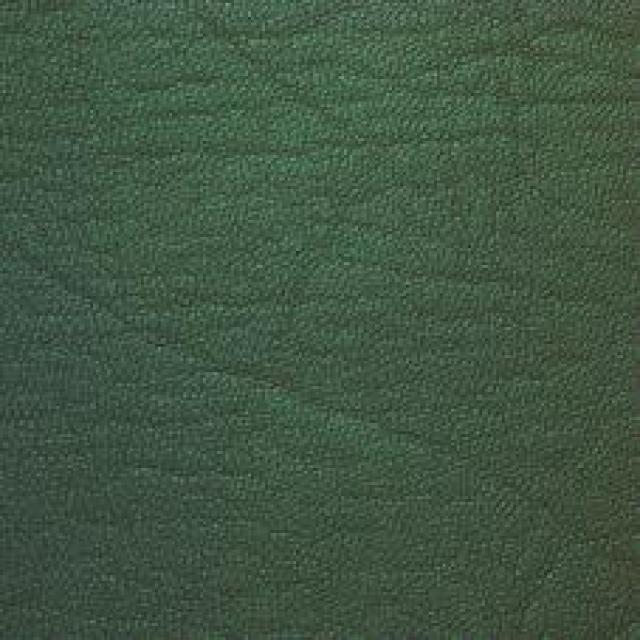Growth Marks: (90, 280, 357, 468), (246, 24, 542, 166)
